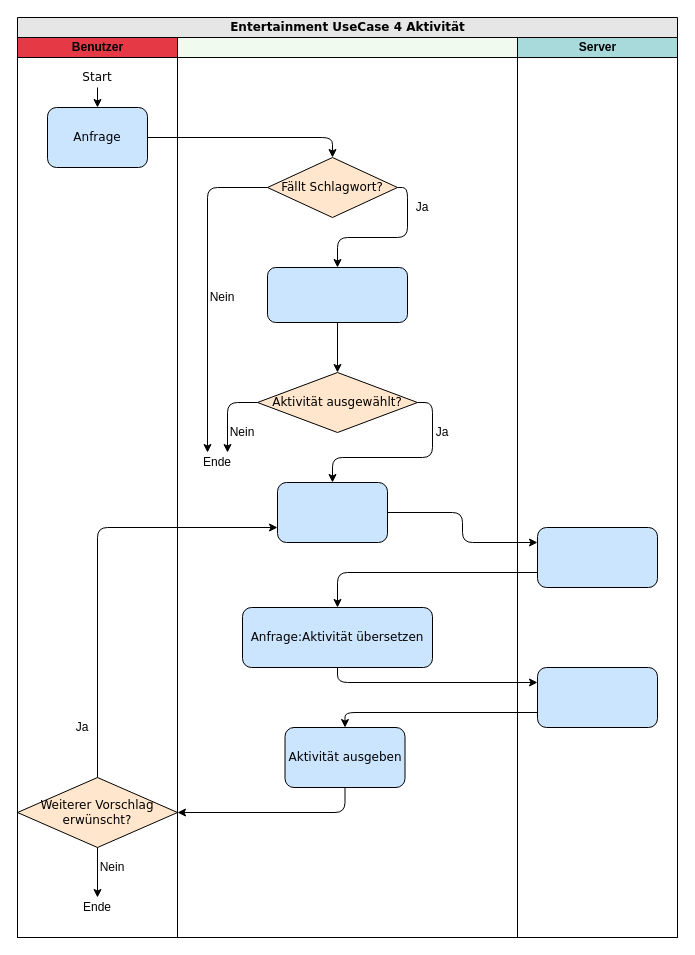
Image size: 695x955. Some labels were removed from this diagram. The shapes that lost their labels are listed below. From the top down, each one's box as (x1, y1, x2, y2) in pixels, then its label:
(266, 266, 408, 322): Zufällige Auswahl aus Witz, Quiz, Aktivität oder Vorhersage
(176, 36, 518, 938): YAPA
(276, 482, 388, 542): Aktivität abfragen (Anfrage an Server)
(536, 526, 658, 588): Aktivität auswählen
(536, 666, 658, 728): Aktivität übersetzen
